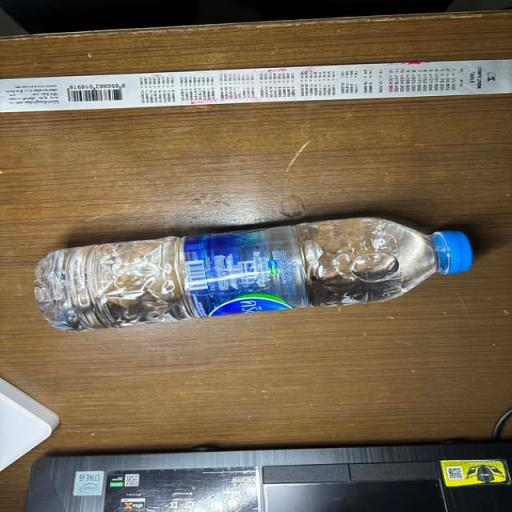bottle: (18, 202, 488, 365)
